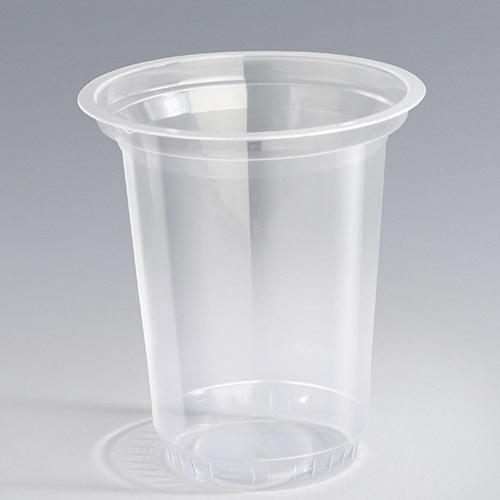plastic_glass: (70, 43, 436, 497)
